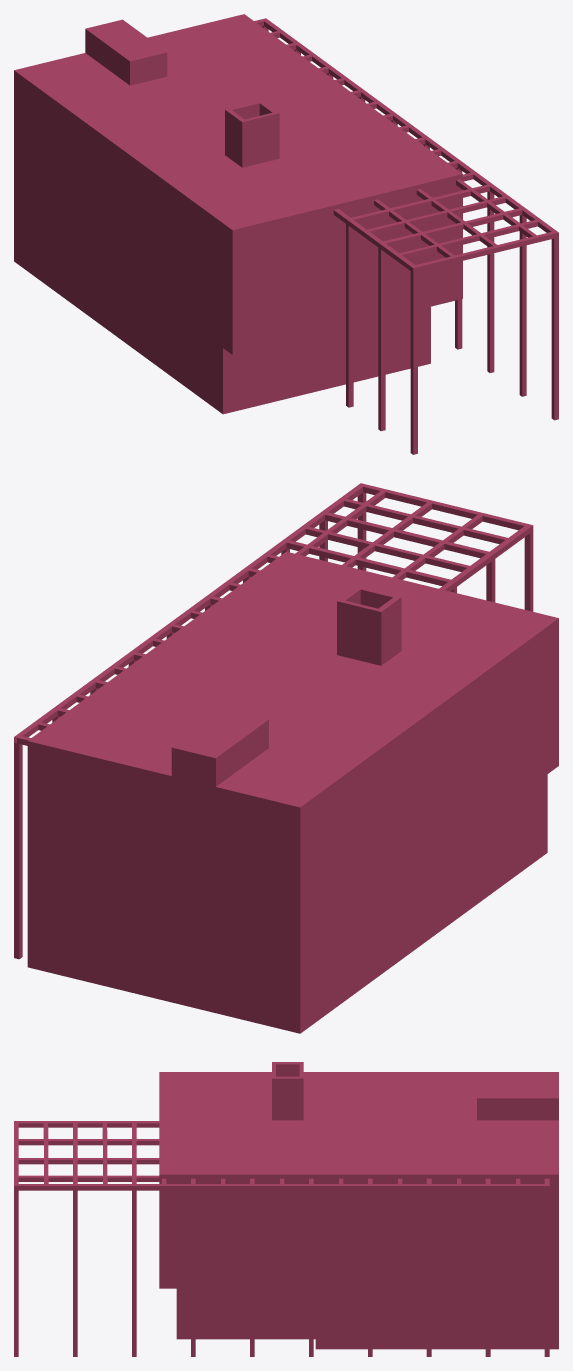
File: SM_Business_School.fbx
3 views of the same model, one above another, from view 1: azimuth 30°, elevation 25°; view 2: azimuth 150°, elevation 25°; view 3: azimuth 270°, elevation 25° (orthographic). The views are drawn at different scales.
Parts seen in each view (by area): view 1: SM_Business_School; view 2: SM_Business_School; view 3: SM_Business_School.
Part boxes in pixels (x1,y1,x2,y2): SM_Business_School: [14, 14, 558, 454]; SM_Business_School: [14, 483, 558, 1033]; SM_Business_School: [14, 1062, 558, 1356].
Size of the model in its own units: 37.43 by 34.28 by 78.25.
